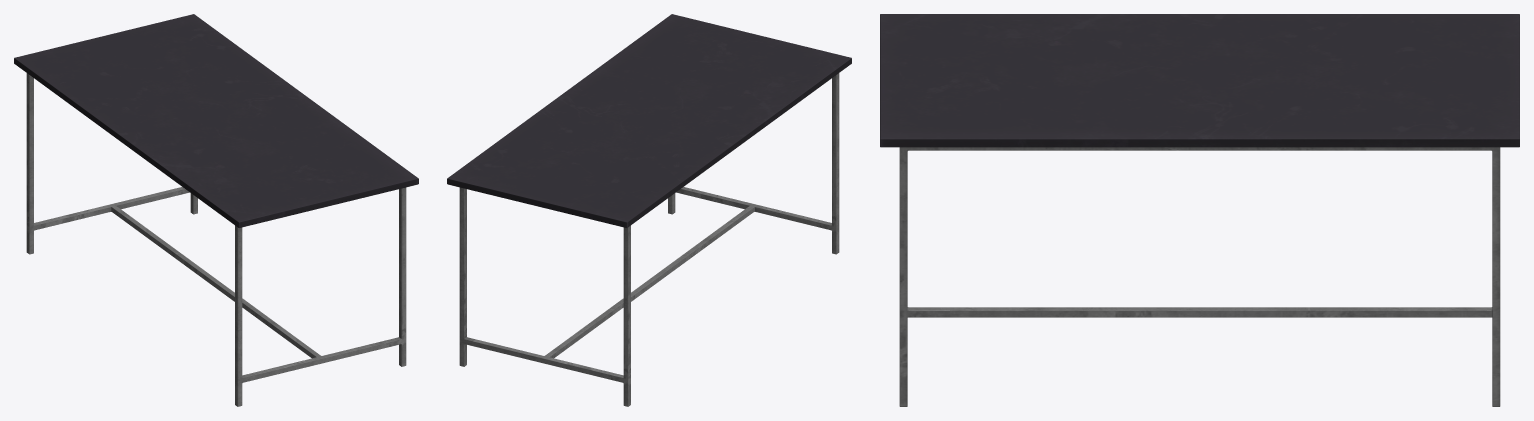
The model's file is table.fbx.
3 views of the same model, side by side, from view 1: azimuth 30°, elevation 25°; view 2: azimuth 150°, elevation 25°; view 3: azimuth 270°, elevation 25° (orthographic). The views are drawn at different scales.
Visible parts, largest first — view 1: tabletop, frame; view 2: tabletop, frame; view 3: tabletop, frame.
Part boxes in pixels (<box>): tabletop: <box>14,14,418,227</box>; frame: <box>26,73,406,406</box>; tabletop: <box>447,14,851,227</box>; frame: <box>459,73,839,406</box>; tabletop: <box>880,14,1519,147</box>; frame: <box>899,147,1500,406</box>.
Bounding box in the file's own units: 7535 × 7643 × 16282.
